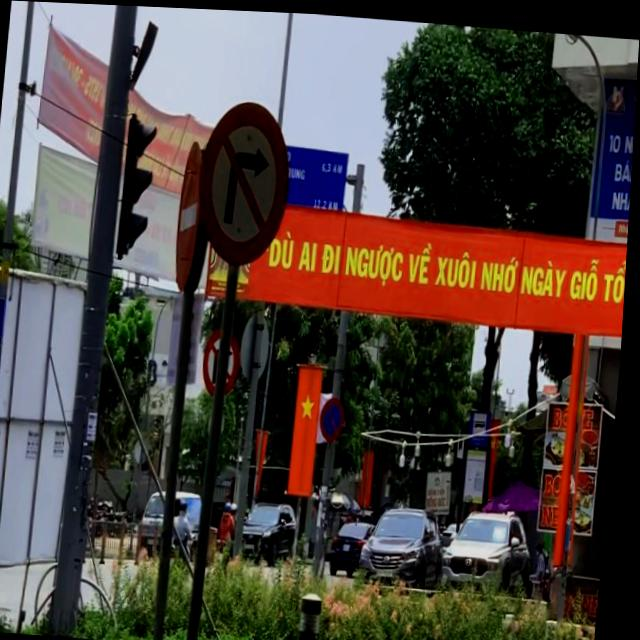Cam do xe: (322, 393, 350, 439)
Cam re phai: (194, 96, 297, 267)
